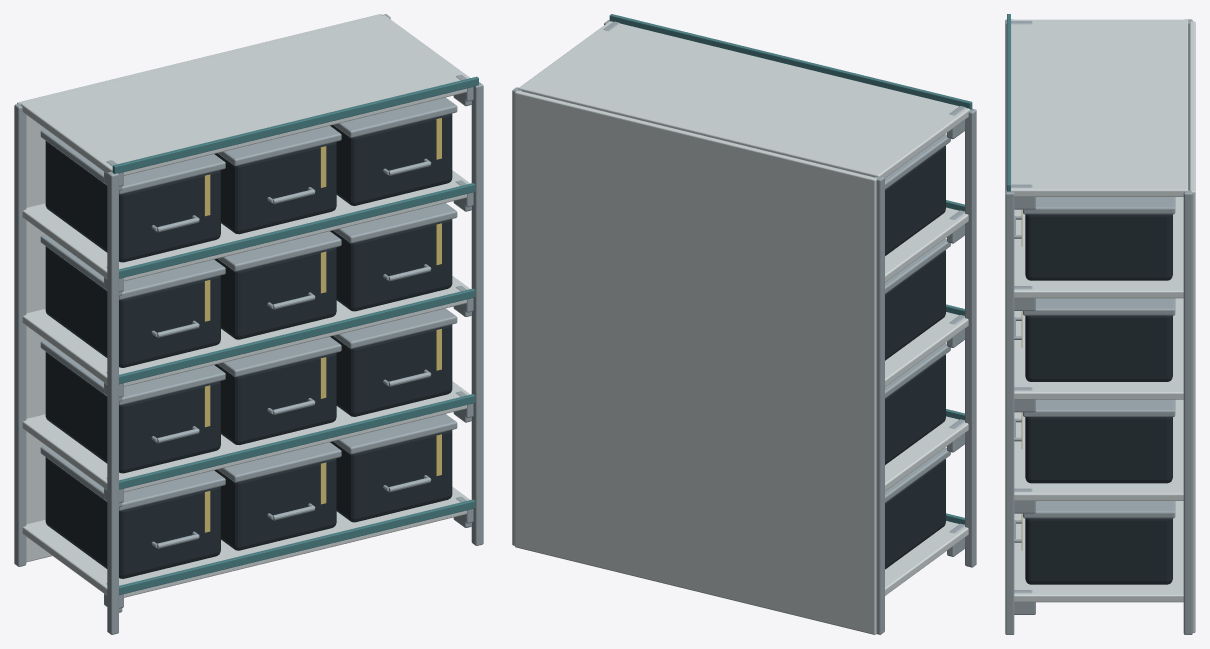
Rendered from SF_ArchiveCaseRack.fbx.
3 views of the same model, side by side, from view 1: azimuth 30°, elevation 25°; view 2: azimuth 150°, elevation 25°; view 3: azimuth 270°, elevation 25° (orthographic). The views are drawn at different scales.
Visible parts, largest first — view 1: SF_ArchiveCaseRack; view 2: SF_ArchiveCaseRack; view 3: SF_ArchiveCaseRack.
Boxes of the visible parts, x1=… form: SF_ArchiveCaseRack: x1=14, y1=14, x2=483, y2=634; SF_ArchiveCaseRack: x1=512, y1=14, x2=976, y2=634; SF_ArchiveCaseRack: x1=1005, y1=14, x2=1195, y2=634.
Bounding box in the file's own units: 174 × 208 × 79.95.
